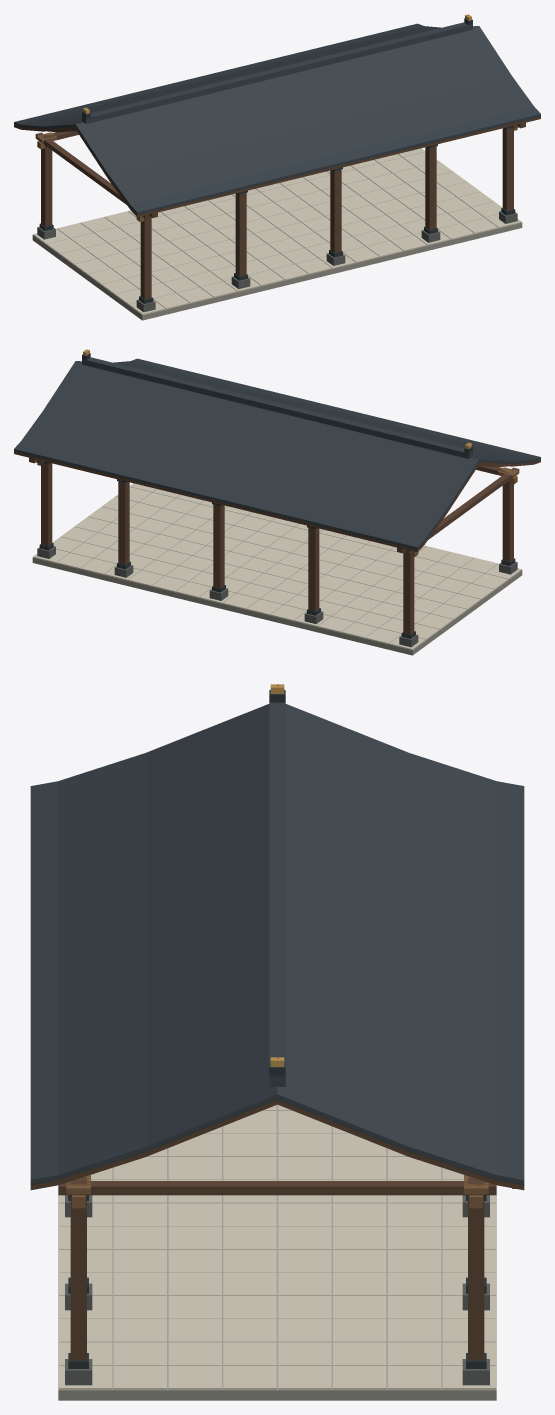
3 views of the same model, one above another, from view 1: azimuth 30°, elevation 25°; view 2: azimuth 150°, elevation 25°; view 3: azimuth 270°, elevation 25° (orthographic). The views are drawn at different scales.
Visible parts, largest first — view 1: 连续屋面 · gable, 石铺面与混凝土楼板 (×8), 木柱、石础与金属抱箍 (×6); view 2: 连续屋面 · gable, 石铺面与混凝土楼板 (×8), 木柱、石础与金属抱箍 (×6); view 3: 连续屋面 · gable, 石铺面与混凝土楼板 (×6), 木柱、石础与金属抱箍 (×2).
Part boxes in pixels (bbox=[...]): 连续屋面 · gable: bbox=[14, 14, 540, 221]; 石铺面与混凝土楼板 (×8): bbox=[32, 148, 522, 320]; 木柱、石础与金属抱箍 (×6): bbox=[36, 126, 517, 312]; 连续屋面 · gable: bbox=[14, 349, 540, 556]; 石铺面与混凝土楼板 (×8): bbox=[32, 483, 522, 655]; 木柱、石础与金属抱箍 (×6): bbox=[37, 461, 518, 647]; 连续屋面 · gable: bbox=[30, 684, 524, 1208]; 石铺面与混凝土楼板 (×6): bbox=[58, 1110, 496, 1400]; 木柱、石础与金属抱箍 (×2): bbox=[65, 1175, 489, 1385].
Size of the model in its own units: 13.6 by 5.54 by 7.2.
Materials: 11 (11 with a texture image).
